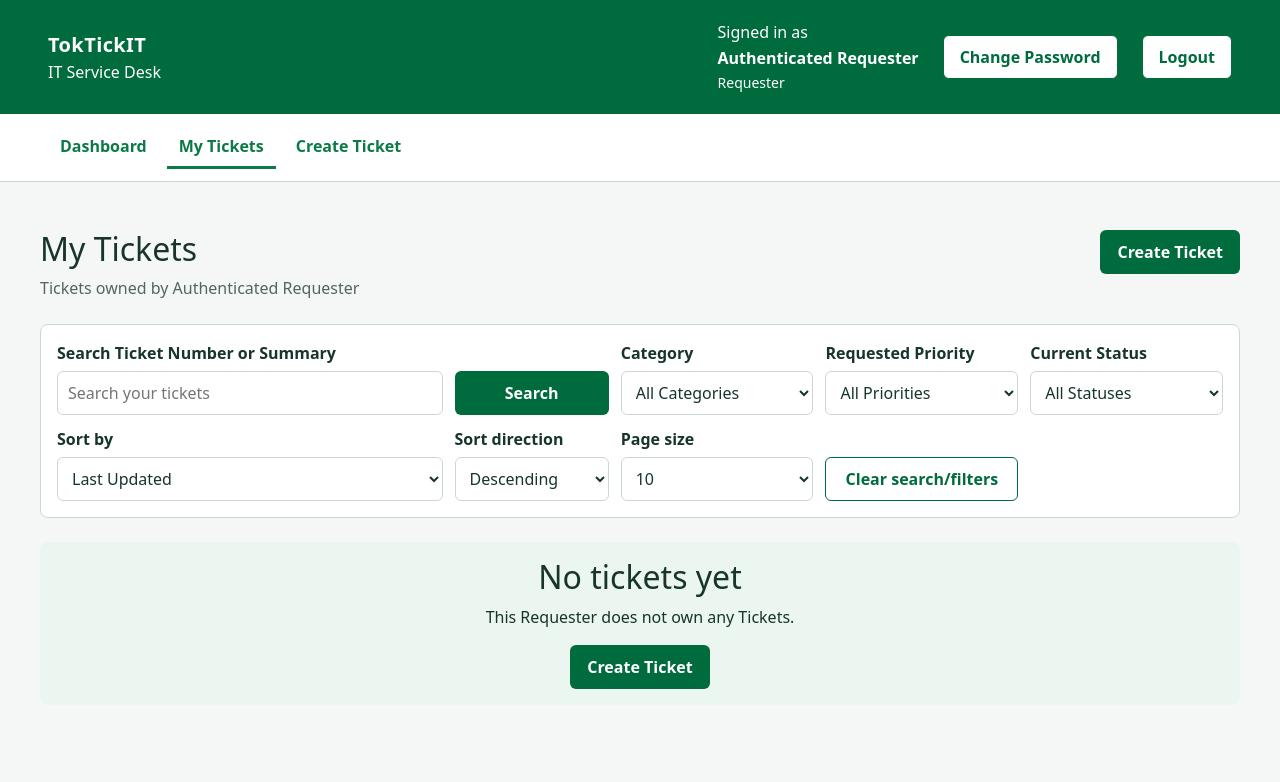
Test: UI-01 authenticated shell and routing › does not claim logout success when server logout fails
Click the button "Logout". click: (1187, 56)
box: [1142,34,1232,78]
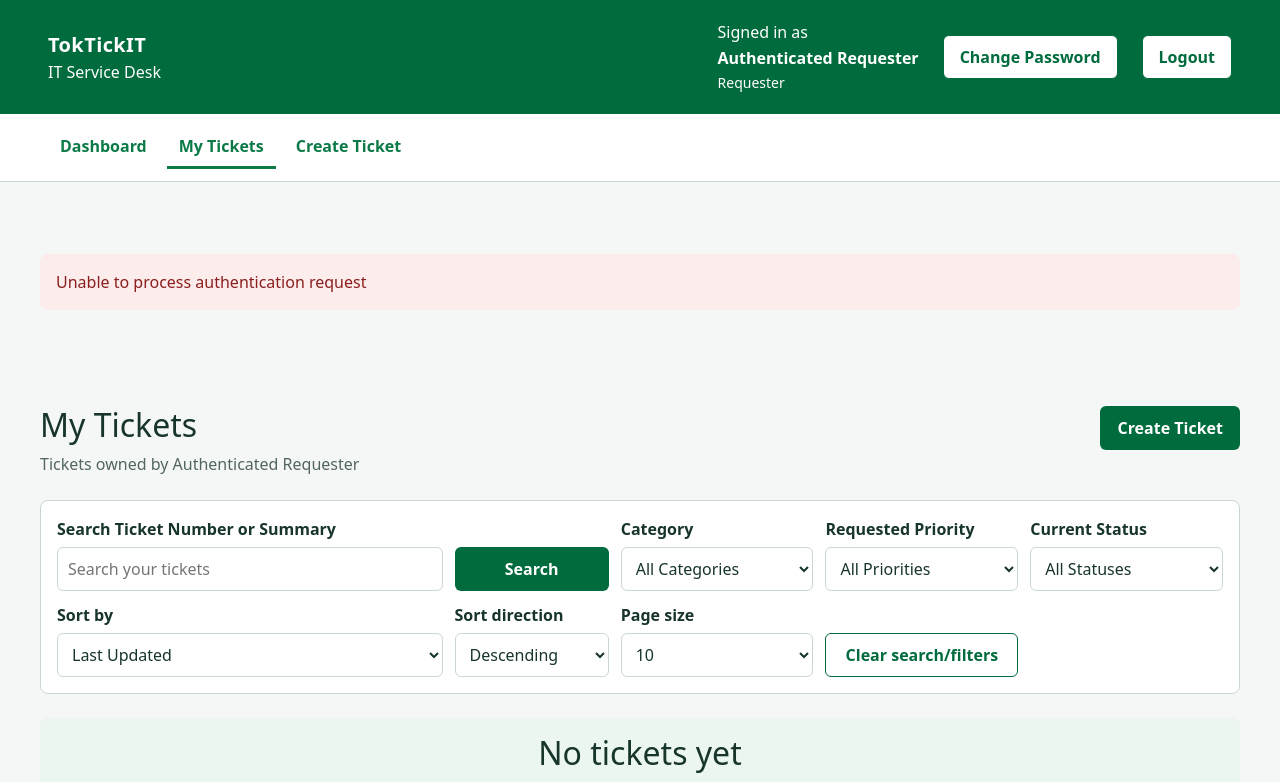
Expected: the text "Authenticated Requester" is shown, [718,46,919,70]
Now the message "Unable to process authentication request" is shown, box [40,254,1240,310]
